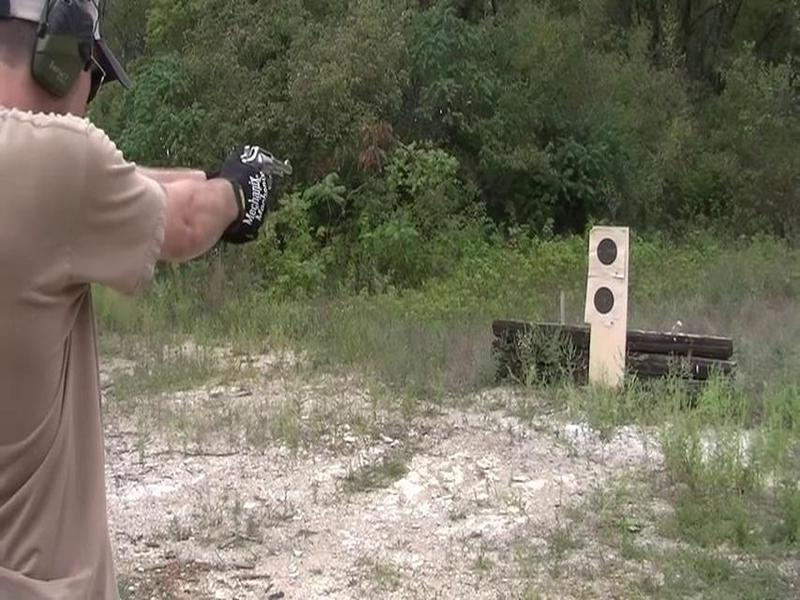Revolver: (237, 138, 317, 221)
